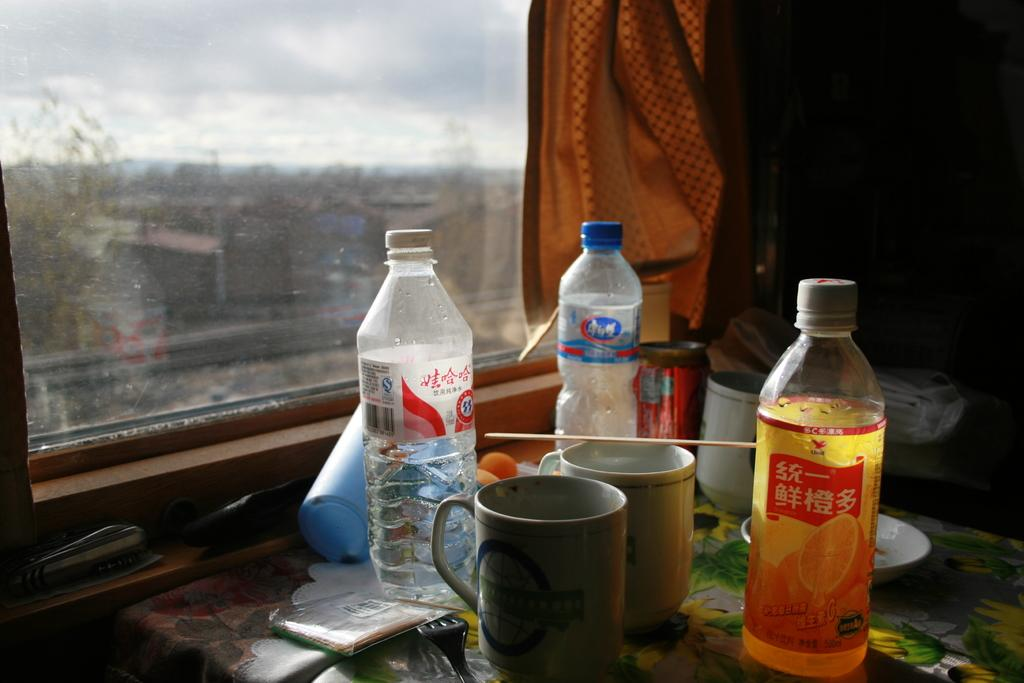Book: (266, 589, 467, 657)
